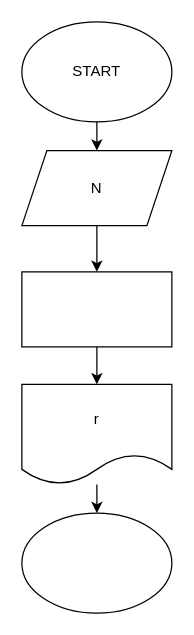
This 194x635 diagram has some shape labels left out. The shapes that lost their labels are listed below. From the top down, each one's centre as x and y in pixels, then its label:
At point 96,309: "r r = random(1, N)".
At point 96,562: "END".
